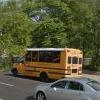Bus: (15, 40, 80, 80)
